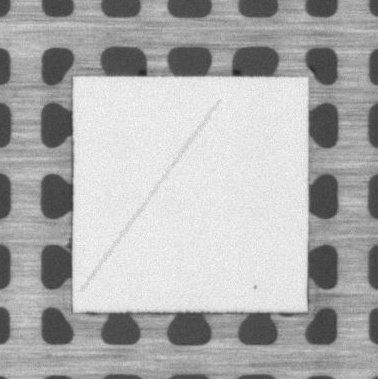DIE_CRACK: (81, 100, 220, 291)
